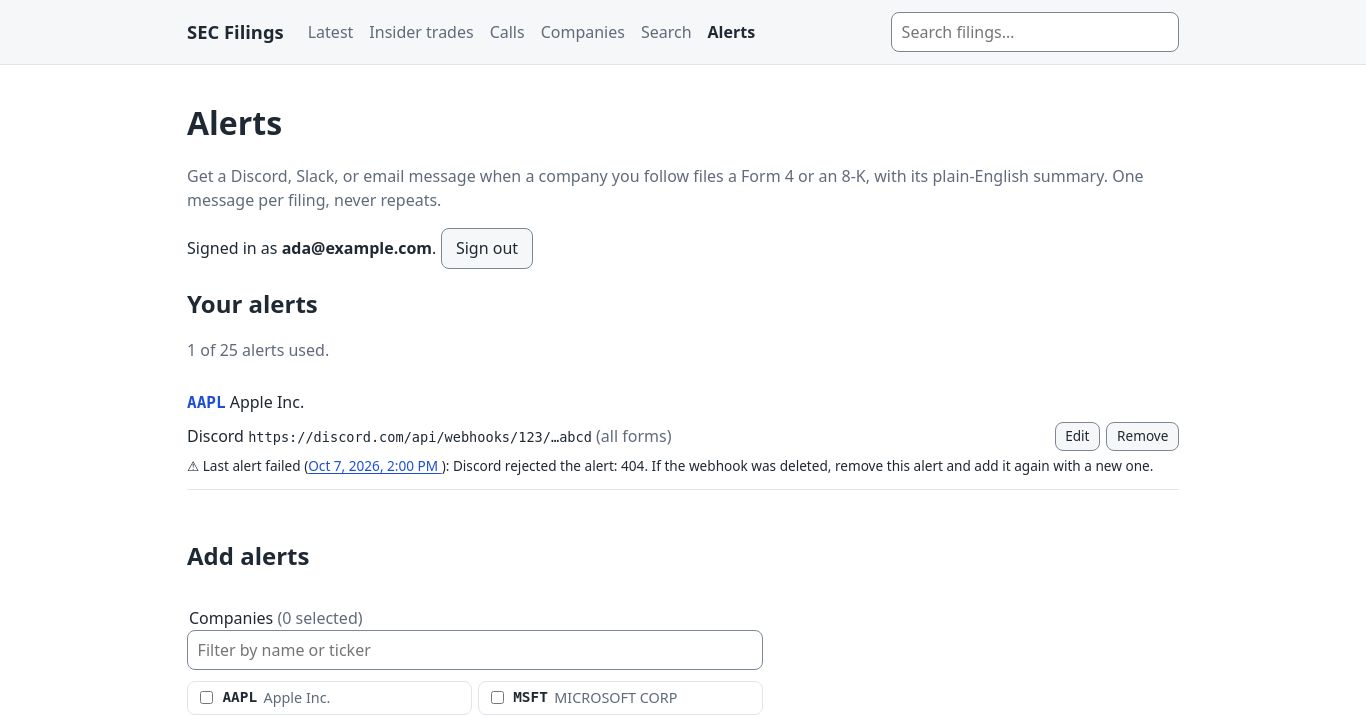
AlertsPage › shows failed deliveries and edits an alert's forms
Expected: the text "Last alert failed" shows "Discord rejected the alert: 404", [453, 456, 644, 475]
Click the button with aria-label "Edit the forms and filters for the AAPL Discord alert".
click(1077, 436)  # box [1054, 422, 1100, 451]
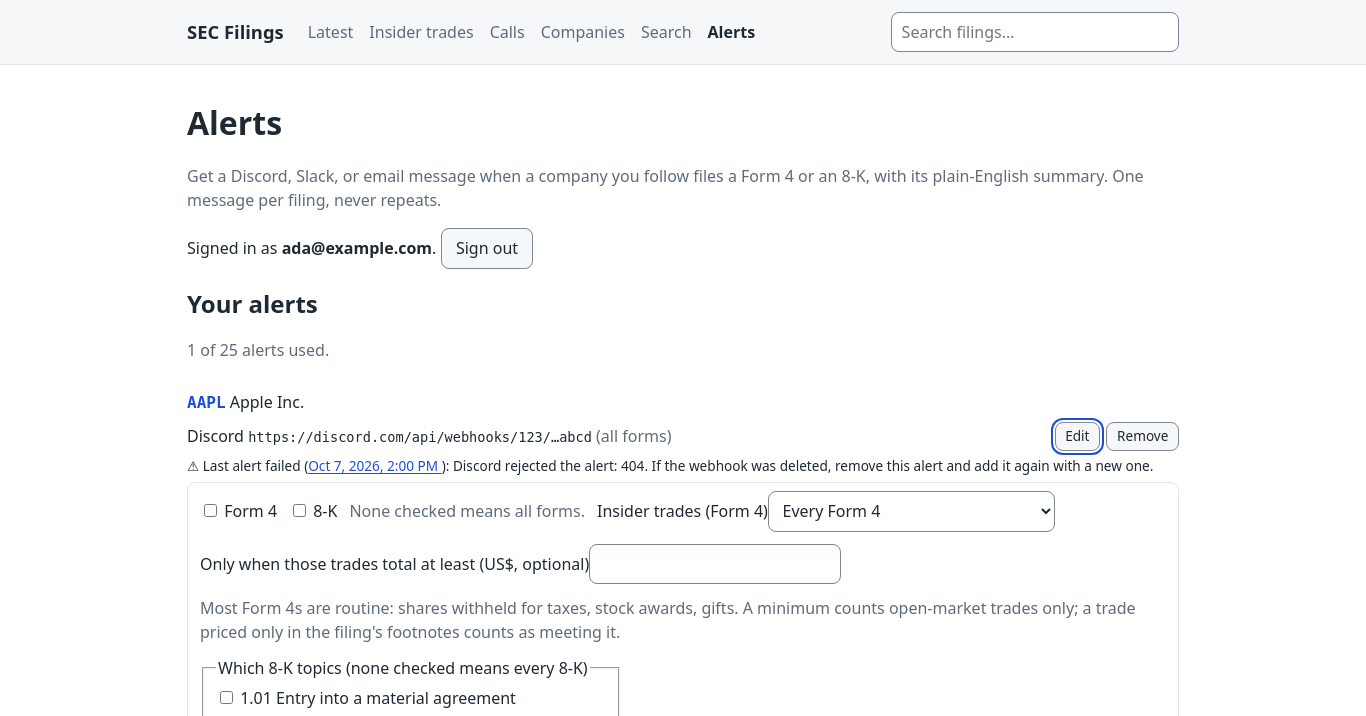
Click the checkbox labelled "Form 4".
click(210, 511)  # box [204, 504, 217, 517]
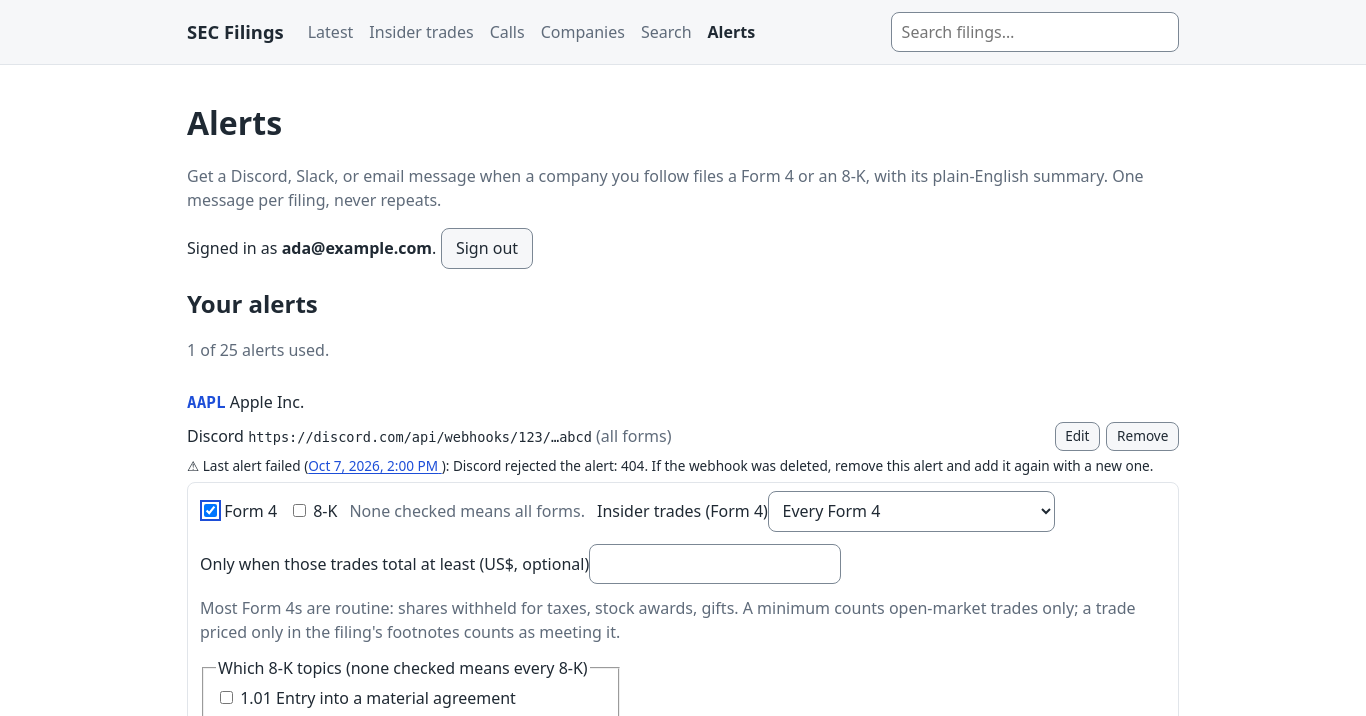
Select "Open-market purchases only" in the dropdown labelled "Insider trades (Form 4)" at (912, 511), box [768, 491, 1055, 532]
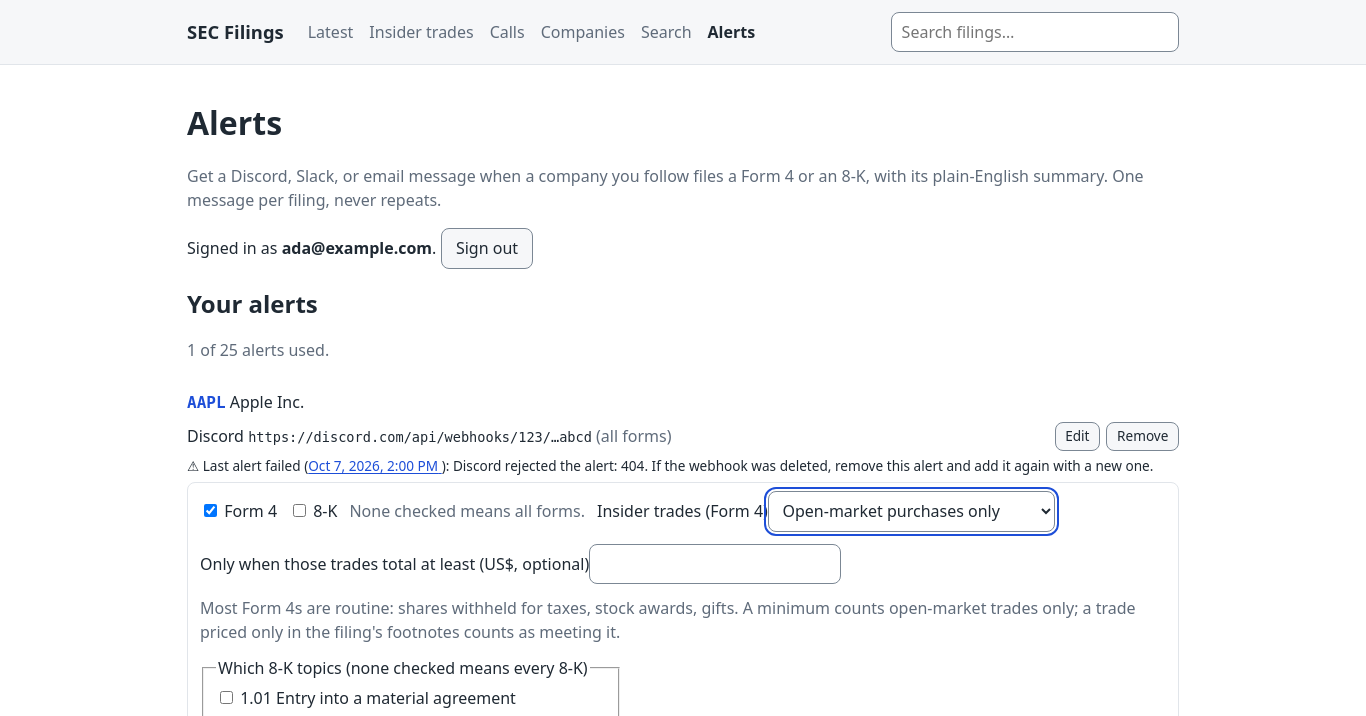
Type "100000" into the number field labelled "Only when those trades total at least (US$, optional)".
click(715, 564); type("100000")  # box [589, 544, 841, 584]
(page scrolled)
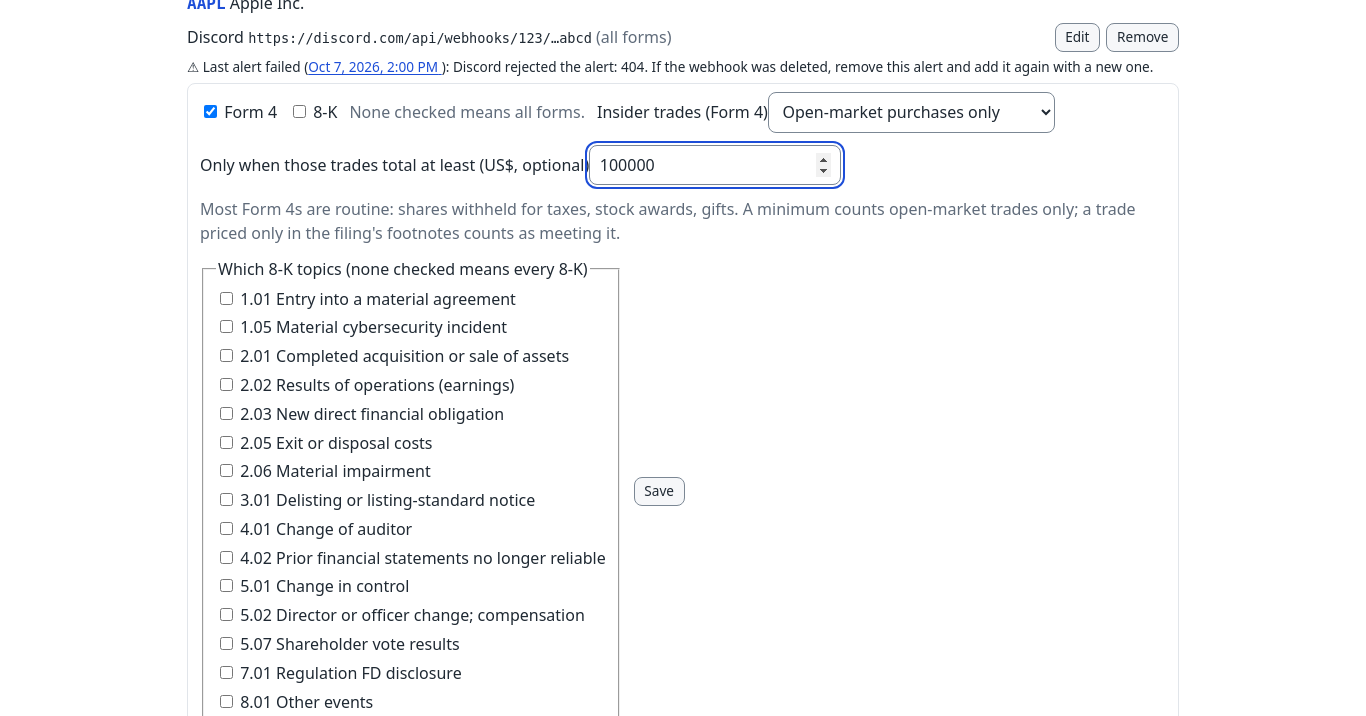
Click the checkbox labelled "2.02 Results of operations (earnings)".
click(226, 384)  # box [220, 378, 233, 391]
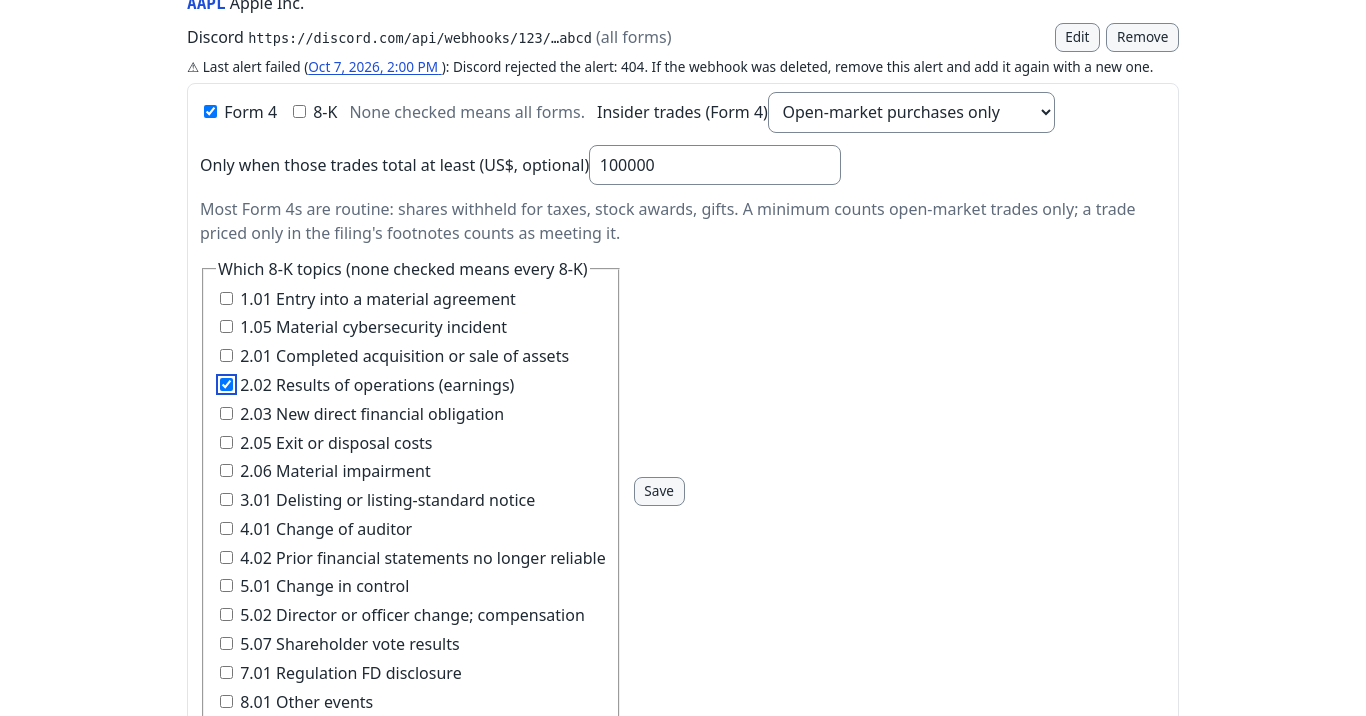
Click the button "Save".
click(659, 491)  # box [634, 477, 685, 506]
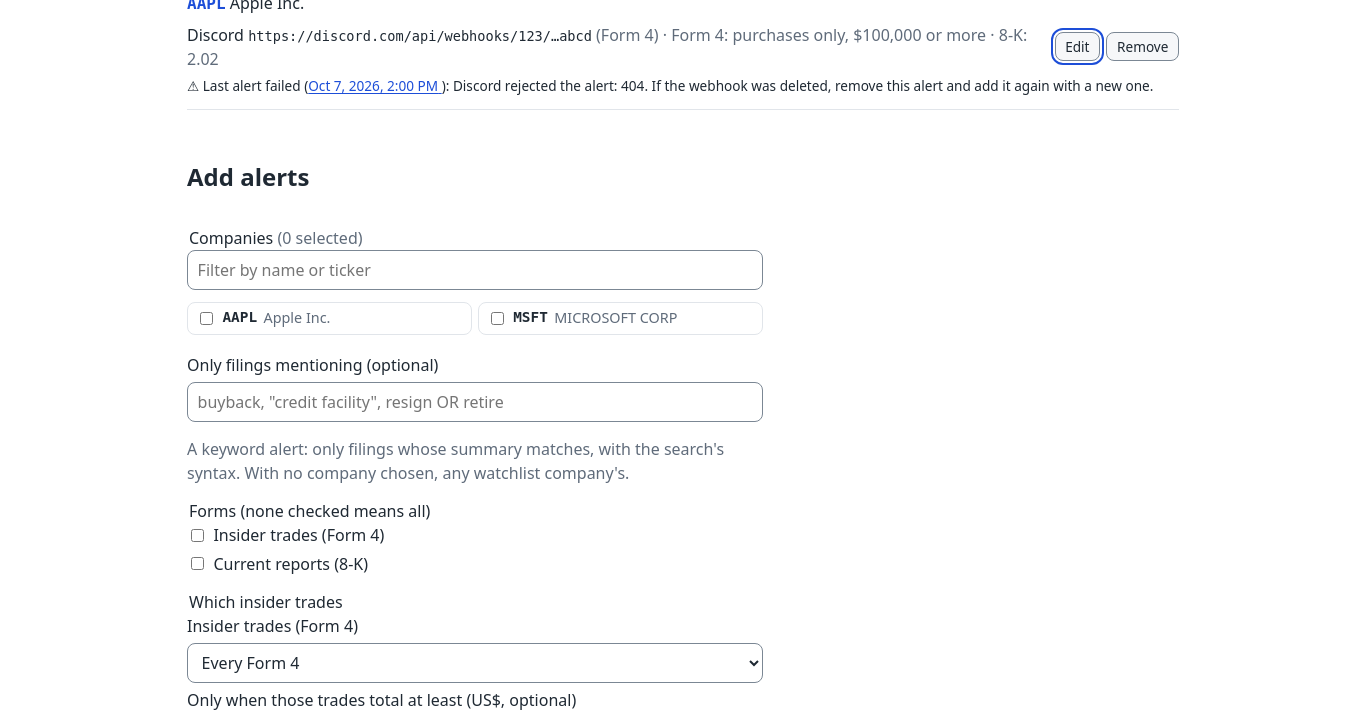
Now the text "(Form 4)" is shown, box [596, 24, 658, 46]
Now the text "· Form 4: purchases only, $100,000 or more · 8-K: 2.02" is shown, box [187, 24, 1027, 70]
Now the button with aria-label "Edit the forms and filters for the AAPL Discord alert" is collapsed, box [1054, 32, 1100, 61]
